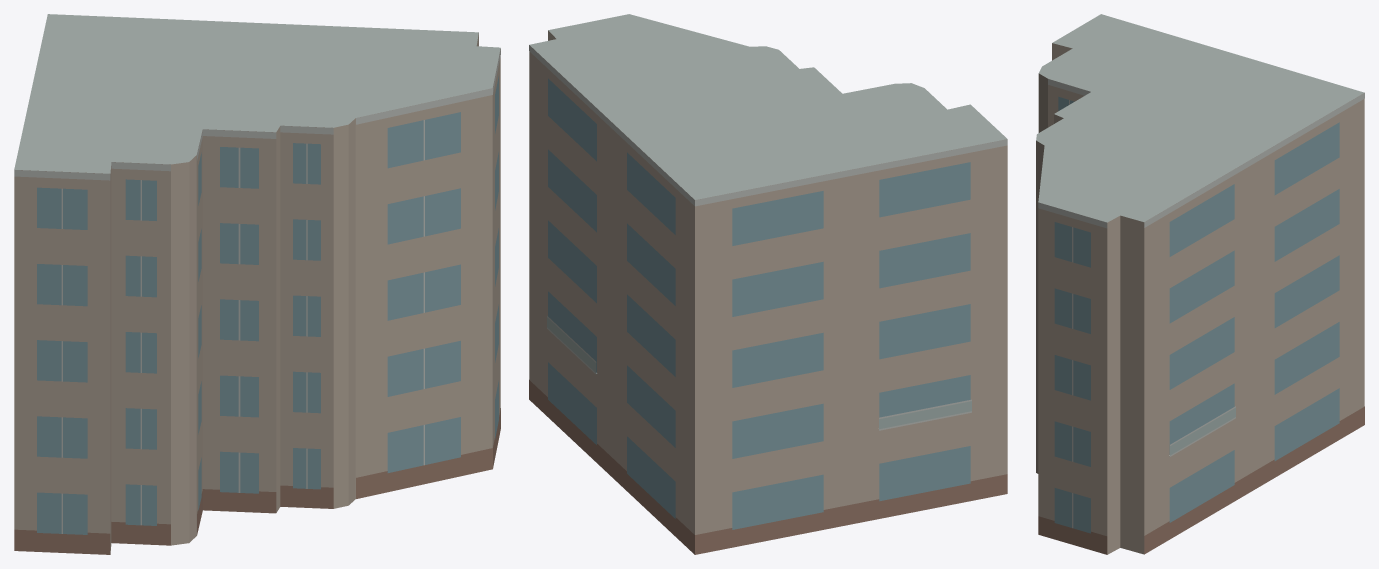
File: survey-upis-32753852.glb
3 views of the same model, side by side, from view 1: azimuth 30°, elevation 25°; view 2: azimuth 150°, elevation 25°; view 3: azimuth 270°, elevation 25° (orthographic). The views are drawn at different scales.
Parts seen in each view (by area): view 1: survey-upis-32753852.tmp; view 2: survey-upis-32753852.tmp; view 3: survey-upis-32753852.tmp.
Boxes of the visible parts, x1,y1,x2,y2 form: survey-upis-32753852.tmp: (14, 14, 500, 554); survey-upis-32753852.tmp: (529, 14, 1007, 554); survey-upis-32753852.tmp: (1036, 14, 1364, 554).
Size of the model in its own units: 18.45 by 13.7 by 12.28.
